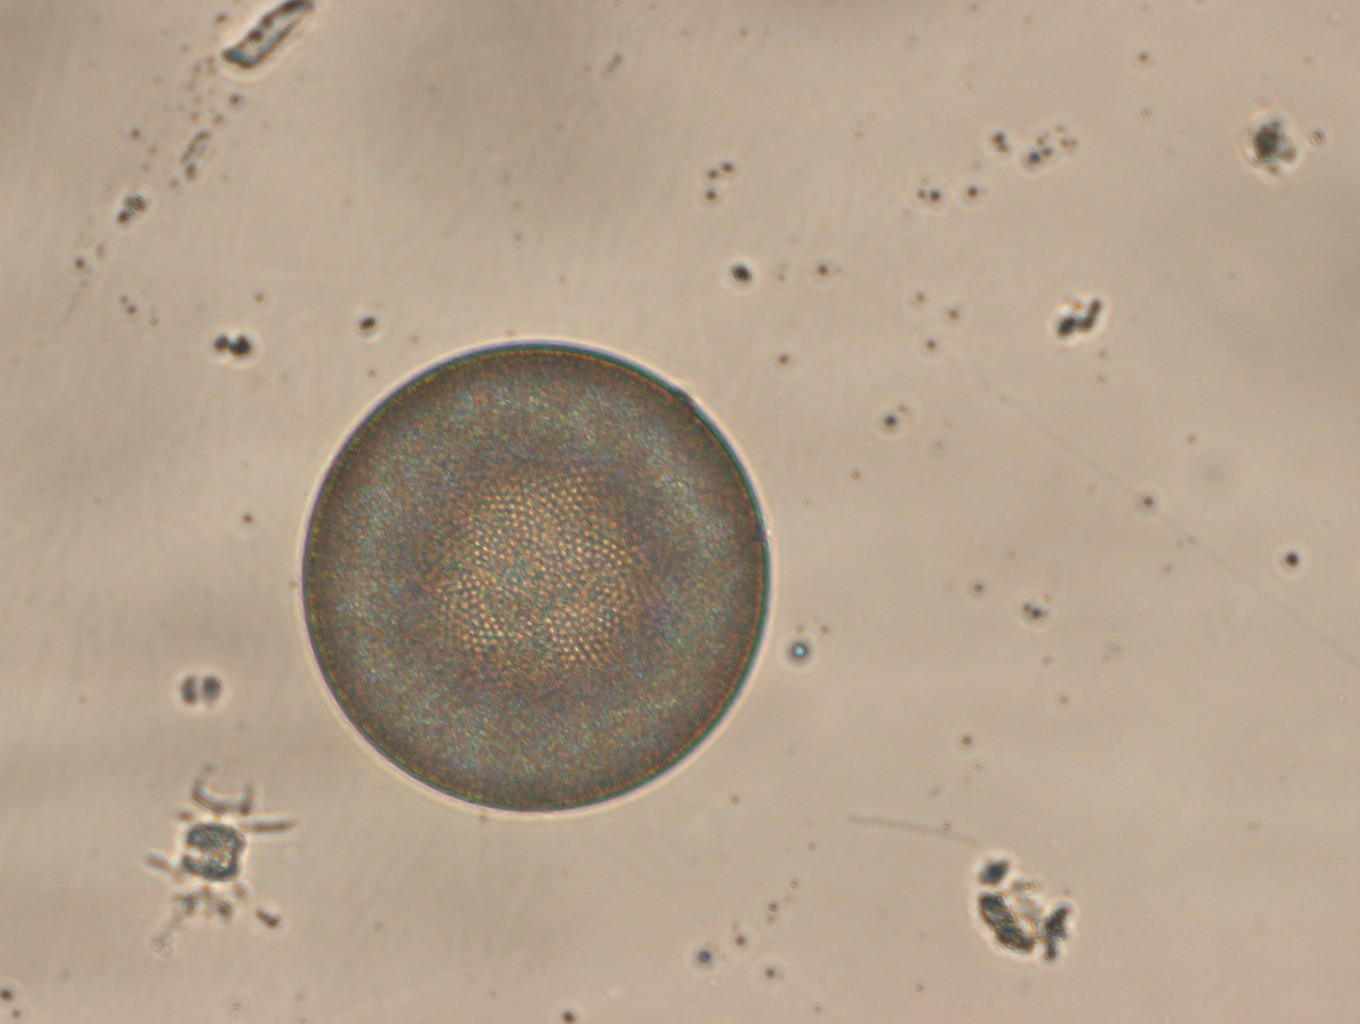chaetoceros: (144, 777, 299, 897)
coscinodiscus: (295, 331, 777, 820)
